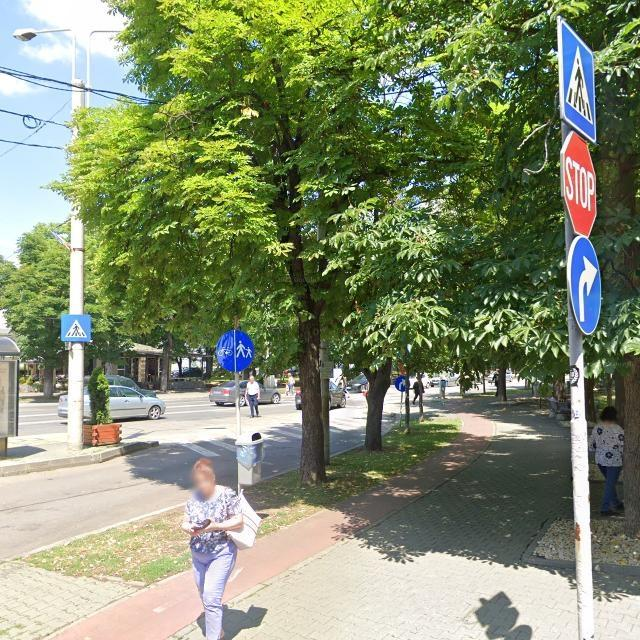info_crosswalk: (557, 17, 602, 141), (60, 313, 92, 343)
prio_stop: (561, 132, 599, 236)
